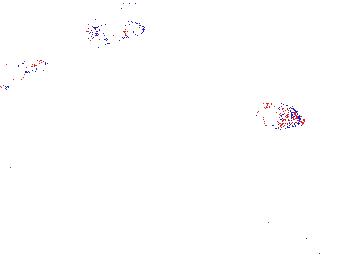X-ray fish: (249, 100, 304, 132)
glassfish: (217, 105, 324, 168)
redtail glassfish: (156, 78, 224, 123), (83, 16, 148, 46), (1, 54, 51, 83)
